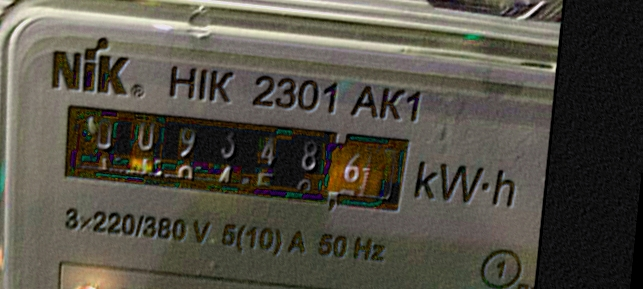0: (134, 117, 158, 155), (93, 115, 116, 152)
3: (215, 126, 240, 160)
4: (255, 130, 279, 169)
6: (341, 149, 366, 185)
8: (298, 137, 321, 172)
9: (176, 122, 198, 158)
screen: (36, 88, 430, 228)
